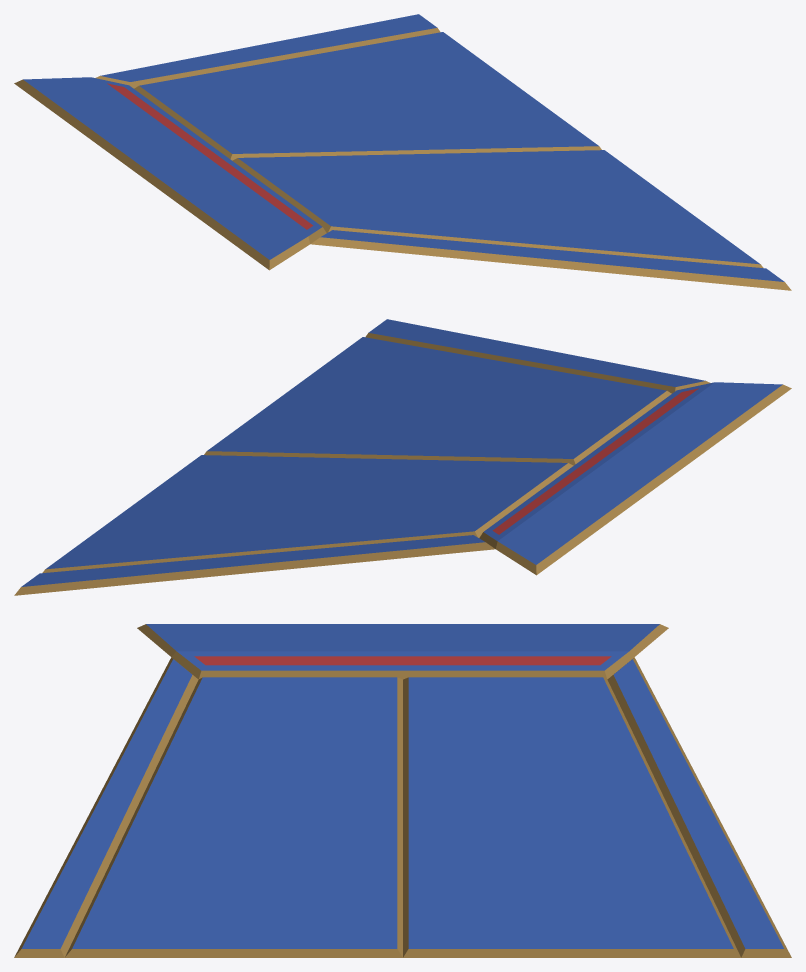
File: SM_Ramp_01.fbx
3 views of the same model, one above another, from view 1: azimuth 30°, elevation 25°; view 2: azimuth 150°, elevation 25°; view 3: azimuth 270°, elevation 25° (orthographic). The views are drawn at different scales.
Parts seen in each view (by area): view 1: SM_Ramp_01; view 2: SM_Ramp_01; view 3: SM_Ramp_01.
Part boxes in pixels (box(x1,y1,x2,y2)): SM_Ramp_01: box(14, 14, 791, 290); SM_Ramp_01: box(14, 319, 791, 595); SM_Ramp_01: box(14, 624, 791, 957).
Size of the model in its own units: 804 by 160 by 1121.
